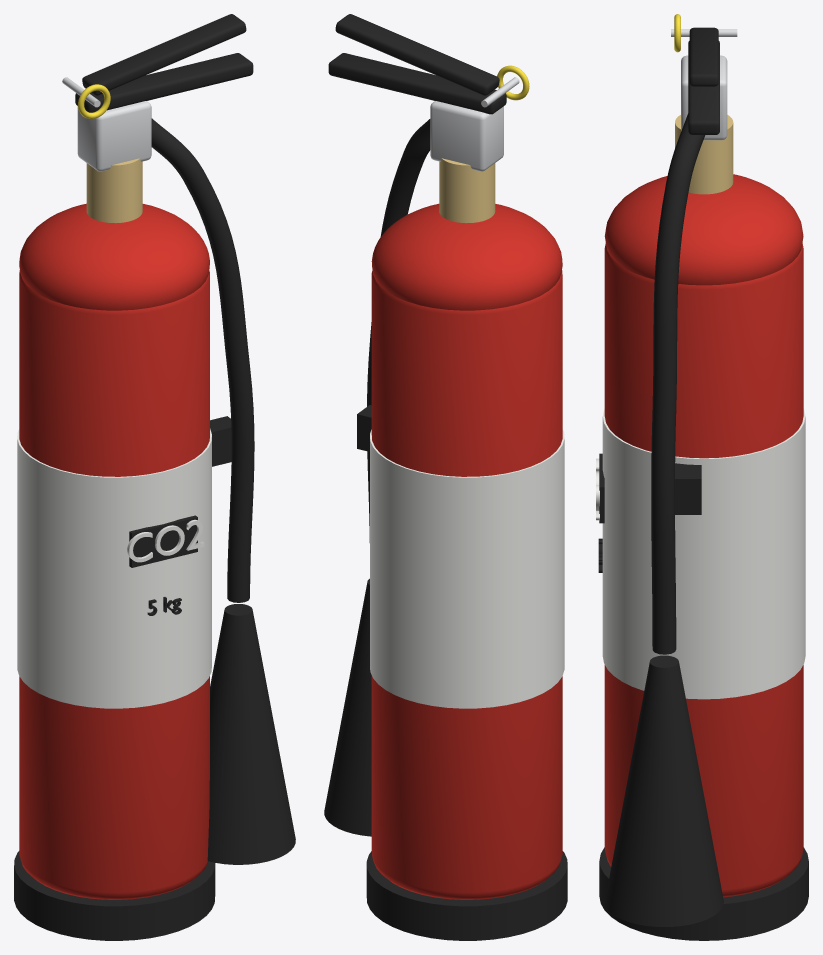
Rendered from Extinguisher_CO2.fbx.
3 views of the same model, side by side, from view 1: azimuth 30°, elevation 25°; view 2: azimuth 150°, elevation 25°; view 3: azimuth 270°, elevation 25° (orthographic). The views are drawn at different scales.
Parts seen in each view (by area): view 1: Extinguisher_CO2; view 2: Extinguisher_CO2; view 3: Extinguisher_CO2.
Boxes of the visible parts, bbox=[...] form: Extinguisher_CO2: bbox=[14, 14, 295, 940]; Extinguisher_CO2: bbox=[324, 14, 567, 940]; Extinguisher_CO2: bbox=[596, 14, 808, 940].
Bounding box in the file's own units: 0.219 × 0.7366 × 0.1605.
